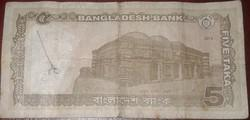5 taka: (7, 5, 244, 111)
